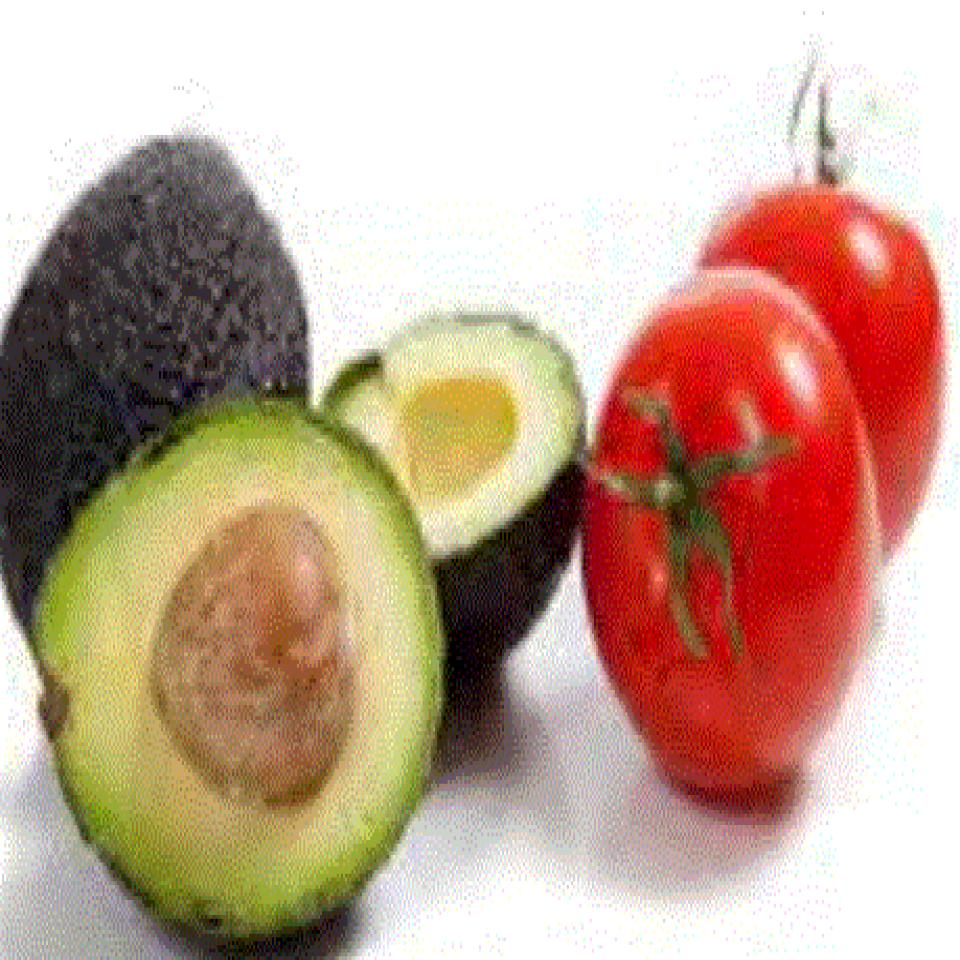Healthy: (599, 275, 874, 772), (700, 141, 950, 596)
